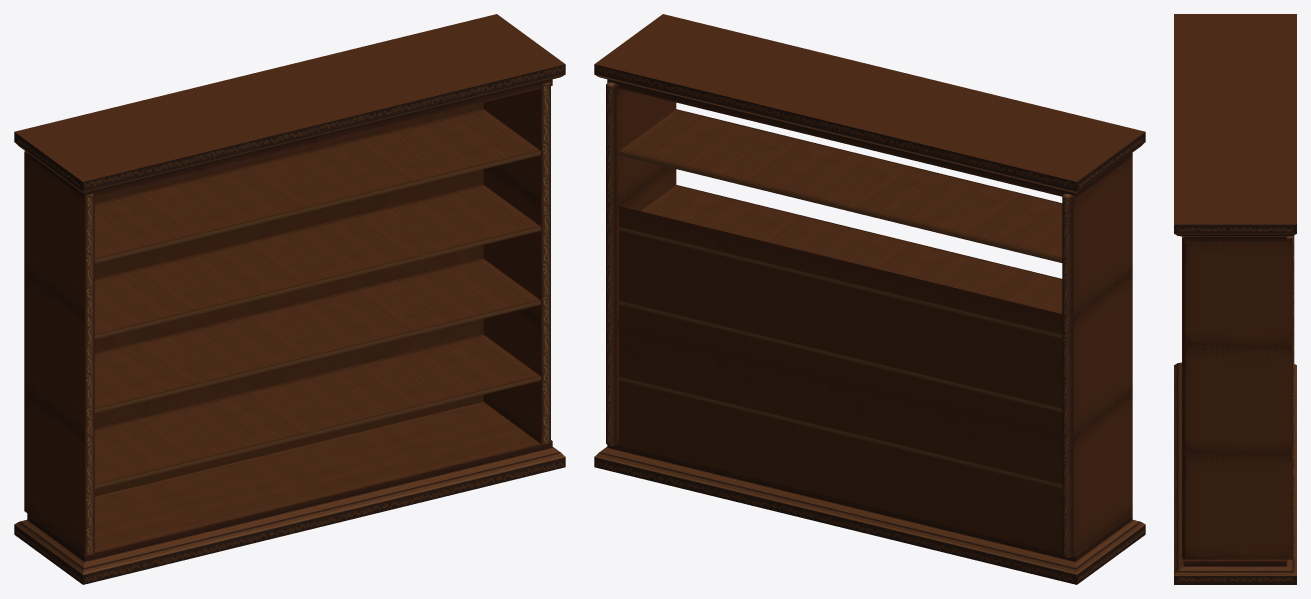
File: Modular_Bookshelf_Long.fbx
The picture shows the model from 3 angles, left to right: view 1: azimuth 30°, elevation 25°; view 2: azimuth 150°, elevation 25°; view 3: azimuth 270°, elevation 25°; orthographic projection. The views are drawn at different scales.
Parts seen in each view (by area): view 1: Bevelled_RT_TnB3, Bevelled_RT_TnB2, Bevelled_LFT_TnB1, Bevelled_RT_TnB1, Bevelled_RT_TnB9, Bevelled_MID_TnB8, Bevelled_MID_TnB9, Bevelled_RT_TnB10, Panel10, Panel9, Panel8, Shelf_Base17 (+29 smaller); view 2: InsidePanels_Base26, InsidePanels_Base3, InsidePanels_Base24, InsidePanels_Base6, InsidePanels_Base27, InsidePanels_Base4, InsidePanels_Base25, InsidePanels_Base5, Bevelled_RT_TnB3, Bevelled_RT_TnB2, Bevelled_MID_TnB8, Bevelled_MID_TnB9 (+18 smaller); view 3: Panel5, Panel6, Panel7, Bevelled_RT_TnB2, Bevelled_RT_TnB3, Bevelled_MID_TnB8, Bevelled_MID_TnB9, Bevelled_RT_TnB10, Bevelled_LFT_TnB1, Bevelled_RT_TnB1, Bevelled_RT_TnB9.
Part boxes in pixels (box(x1,y1,x2,y2)): Bevelled_RT_TnB3: box(14, 100, 210, 199); Bevelled_RT_TnB2: box(369, 14, 565, 114); Bevelled_LFT_TnB1: box(14, 484, 210, 584); Bevelled_RT_TnB1: box(148, 454, 337, 553); Bevelled_RT_TnB9: box(268, 427, 451, 525); Bevelled_MID_TnB8: box(142, 73, 324, 170); Bevelled_MID_TnB9: box(256, 45, 437, 142); Bevelled_RT_TnB10: box(378, 402, 565, 498); Panel10: box(24, 271, 94, 435); Panel9: box(24, 391, 94, 555); Panel8: box(24, 151, 94, 315); Shelf_Base17: box(366, 109, 540, 183); InsidePanels_Base26: box(727, 351, 841, 497); InsidePanels_Base3: box(841, 379, 954, 525); InsidePanels_Base24: box(727, 232, 841, 378); InsidePanels_Base6: box(841, 260, 954, 406); InsidePanels_Base27: box(619, 325, 727, 470); InsidePanels_Base4: box(955, 407, 1062, 551); InsidePanels_Base25: box(619, 206, 727, 351); InsidePanels_Base5: box(955, 288, 1062, 432); Bevelled_RT_TnB3: box(949, 100, 1145, 199); Bevelled_RT_TnB2: box(594, 14, 790, 114); Bevelled_MID_TnB8: box(835, 73, 1017, 170); Bevelled_MID_TnB9: box(722, 45, 903, 142); Panel5: box(1182, 451, 1294, 559); Panel6: box(1182, 344, 1294, 452); Panel7: box(1182, 235, 1294, 345); Bevelled_RT_TnB2: box(1174, 169, 1296, 242); Bevelled_RT_TnB3: box(1174, 14, 1296, 69); Bevelled_MID_TnB8: box(1174, 69, 1296, 119); Bevelled_MID_TnB9: box(1174, 119, 1296, 168); Bevelled_RT_TnB10: box(1174, 515, 1296, 584); Bevelled_LFT_TnB1: box(1174, 362, 1296, 420); Bevelled_RT_TnB1: box(1174, 415, 1296, 469); Bevelled_RT_TnB9: box(1174, 465, 1296, 519).
Size of the model in its own units: 266 by 213 by 65.7.
